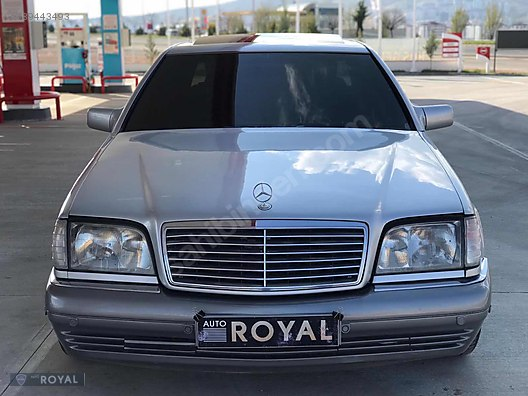mercedes: (45, 32, 497, 368)
